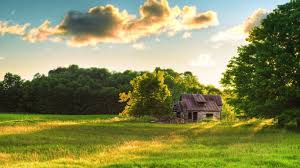field: (7, 121, 300, 166)
house: (170, 84, 229, 125)
sky: (3, 4, 237, 75)
tree: (224, 1, 299, 139)
